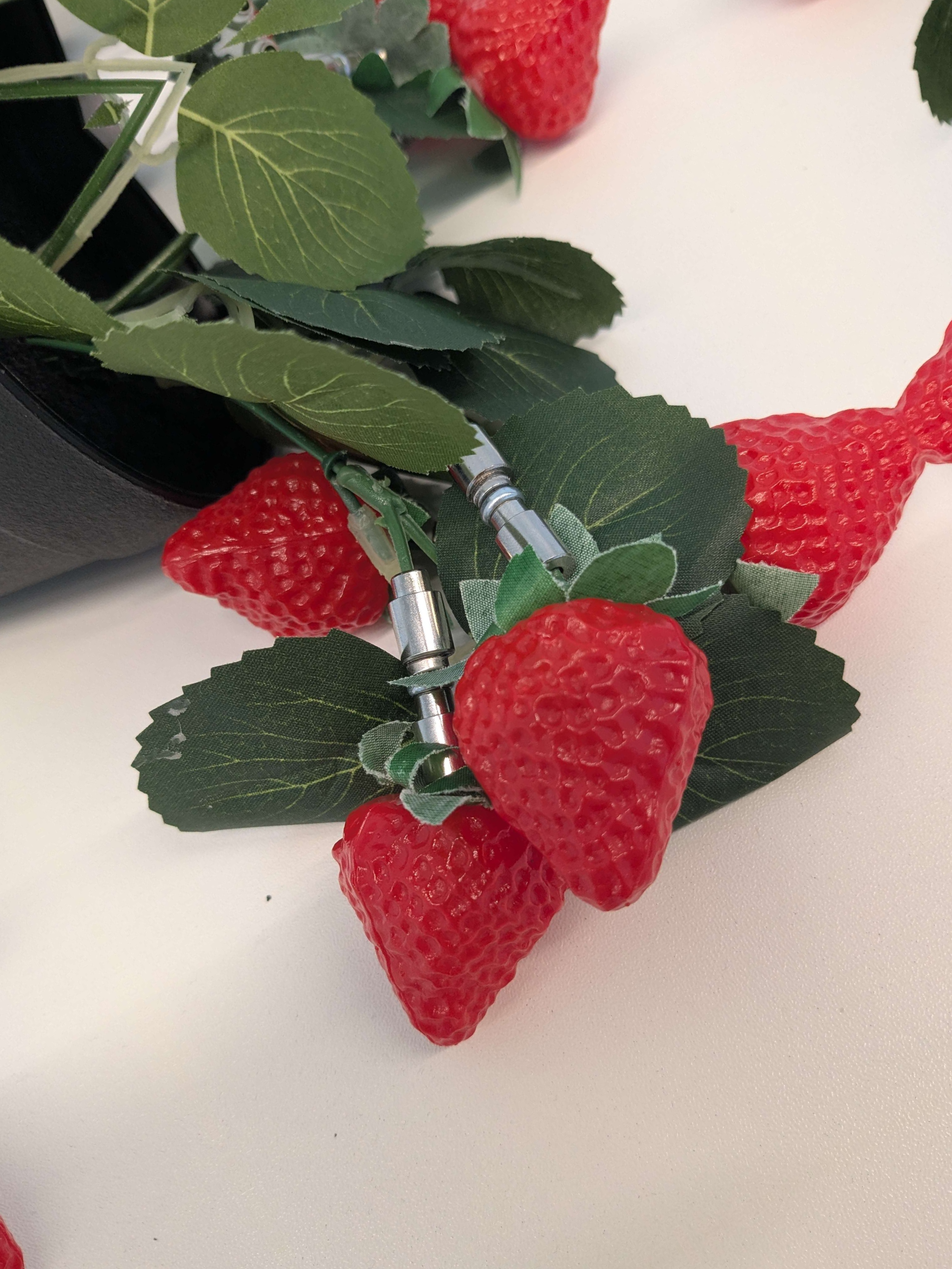Strawberry: (410, 547, 794, 958), (260, 700, 634, 1093), (638, 333, 952, 676), (127, 422, 430, 717), (397, 0, 708, 206)
